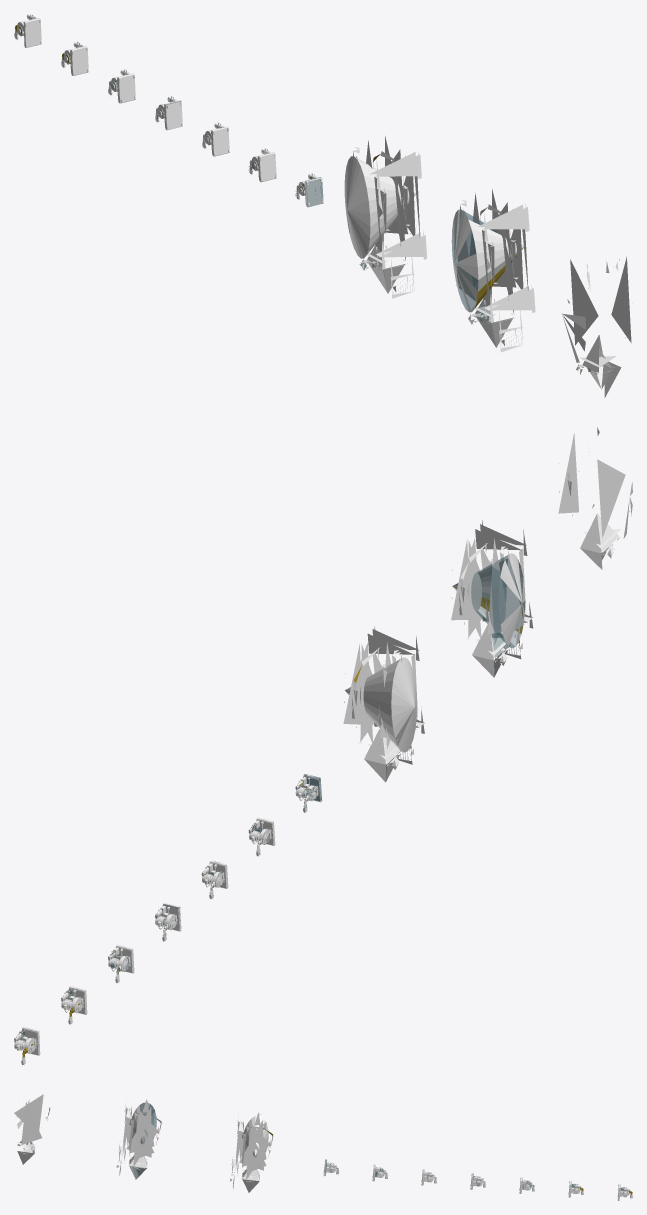
The model's file is xuanshu_interior_C34.glb.
The picture shows the model from 3 angles, top to bottom: view 1: azimuth 30°, elevation 25°; view 2: azimuth 150°, elevation 25°; view 3: azimuth 270°, elevation 25°; orthographic projection. The views are drawn at different scales.
Parts seen in each view (by area): view 1: UNIT-MED-003_S149421_S24903; view 2: UNIT-MED-003_S149421_S24903; view 3: UNIT-MED-003_S149421_S24903.
Boxes of the visible parts, x1,y1,x2,y2 form: UNIT-MED-003_S149421_S24903: (14,14,632,398); UNIT-MED-003_S149421_S24903: (14,427,632,1065); UNIT-MED-003_S149421_S24903: (14,1094,632,1200).
Bounding box in the file's own units: 1.12 × 3.13 × 16.36.
